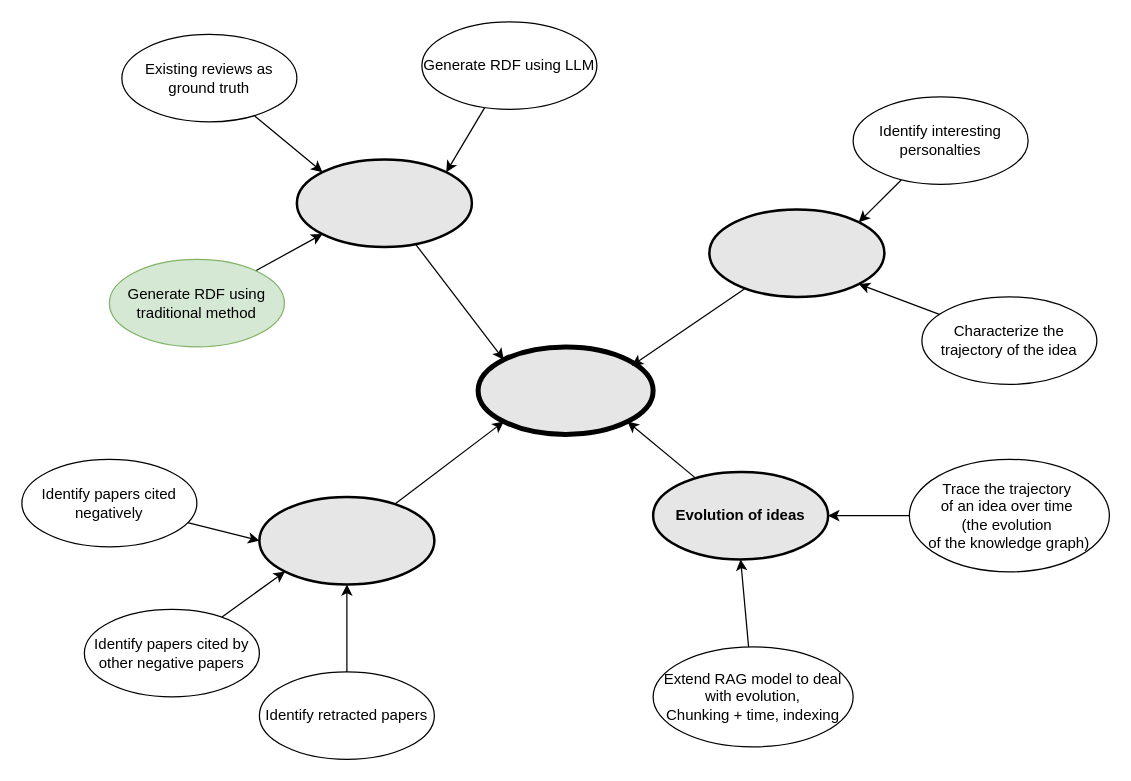
Some shapes in this 1131 by 781 pixel diagram are drawn without their labels. Here are the shapes that lost their labels. From the top down, the centre of each, then its label:
At point (383, 203): "Extraction of ideas".
At point (796, 253): "Identify successful ideas in research".
At point (565, 390): "Systematic Literature Reviews".
At point (346, 540): "Identify negative results".
